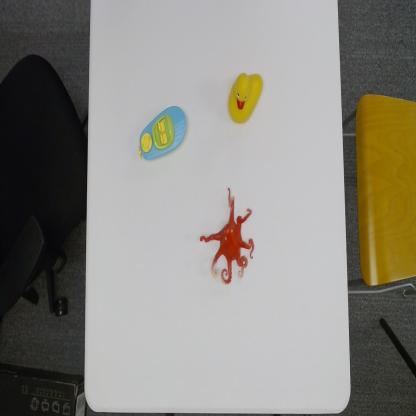Boat: (137, 104, 188, 164)
Duck: (227, 66, 263, 125)
Octopus: (200, 183, 258, 287)
